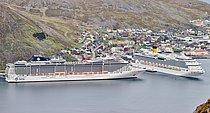Ship: (5, 51, 149, 85), (130, 48, 209, 82)
